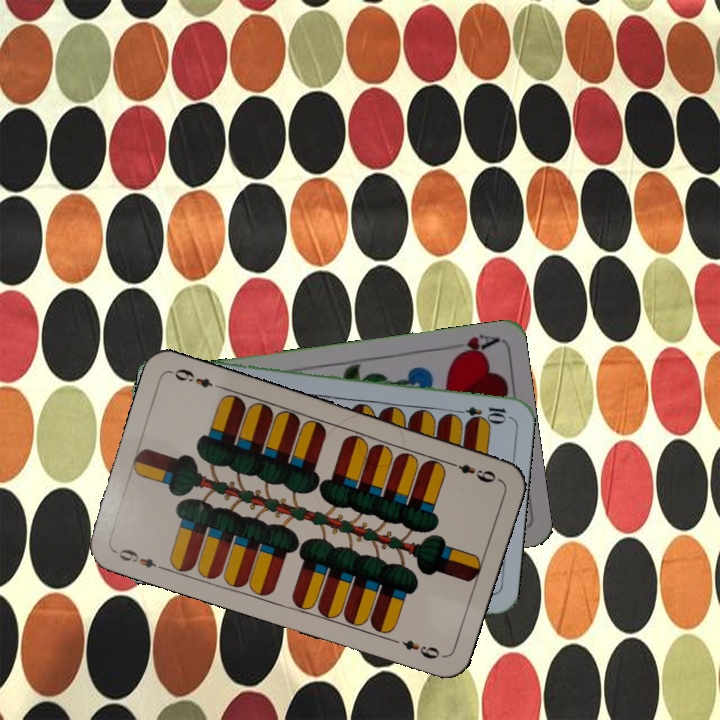E10: (450, 402, 509, 422)
E9: (110, 544, 168, 573), (444, 457, 499, 485)
HA: (449, 330, 500, 361)
